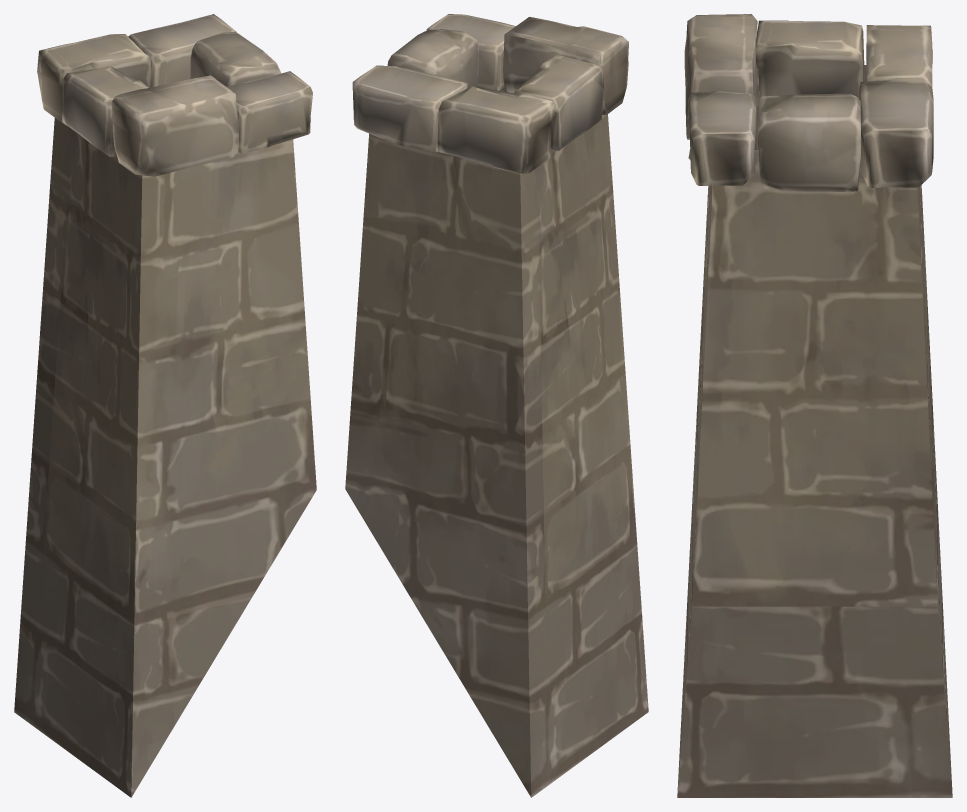
The model's file is Prop_Chimney.glb.
The picture shows the model from 3 angles, left to right: view 1: azimuth 30°, elevation 25°; view 2: azimuth 150°, elevation 25°; view 3: azimuth 270°, elevation 25°; orthographic projection. The views are drawn at different scales.
Parts seen in each view (by area): view 1: Prop_Chimney; view 2: Prop_Chimney; view 3: Prop_Chimney.
Part boxes in pixels (<box>): Prop_Chimney: <box>14,14,316,797</box>; Prop_Chimney: <box>345,14,648,797</box>; Prop_Chimney: <box>677,14,952,797</box>.
Bounding box in the file's own units: 0.9459 × 3.18 × 1.
Materials: 2 (2 with a texture image).
